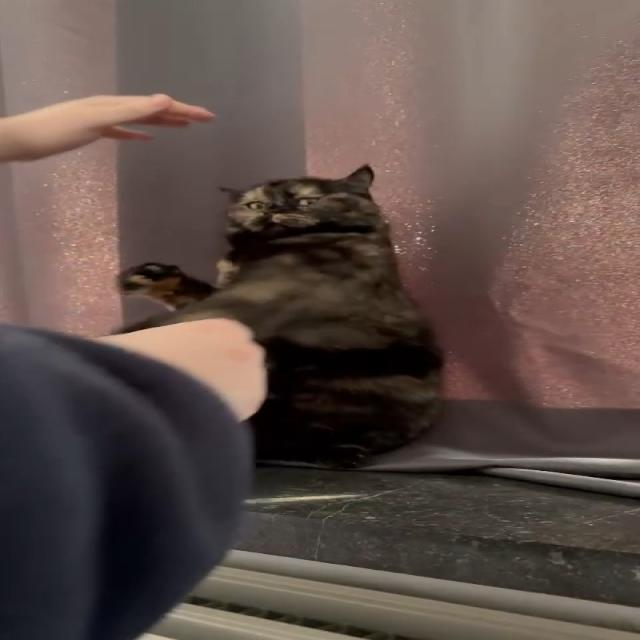authorized: (113, 162, 446, 470)
